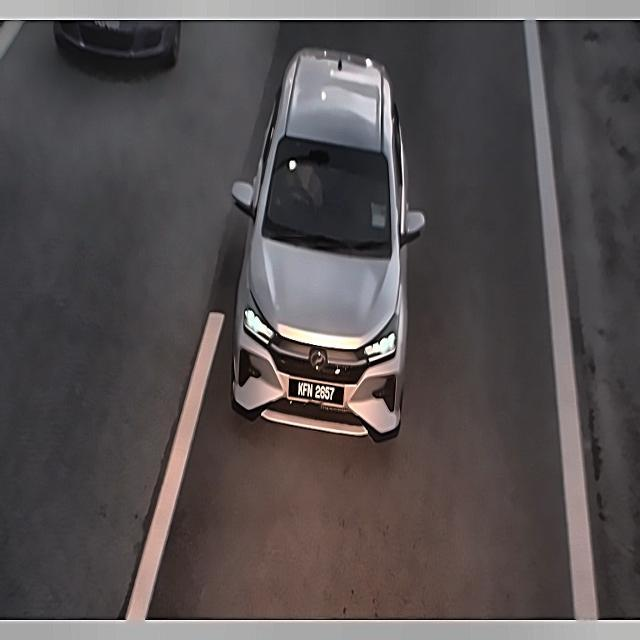car: (284, 368, 346, 415), (83, 19, 128, 31)
